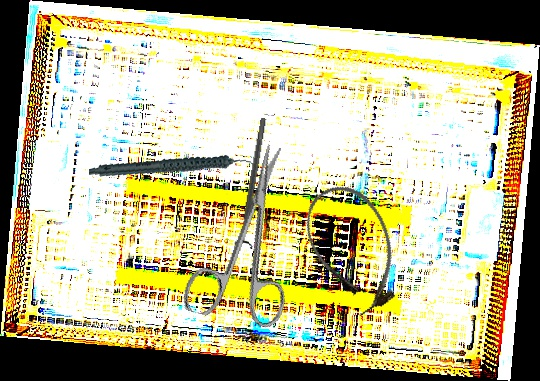Cannula: (292, 174, 415, 323)
Fixation Ring: (233, 116, 274, 250)
Handpiece: (88, 131, 258, 204)
Iris Scissors: (179, 133, 327, 336)
